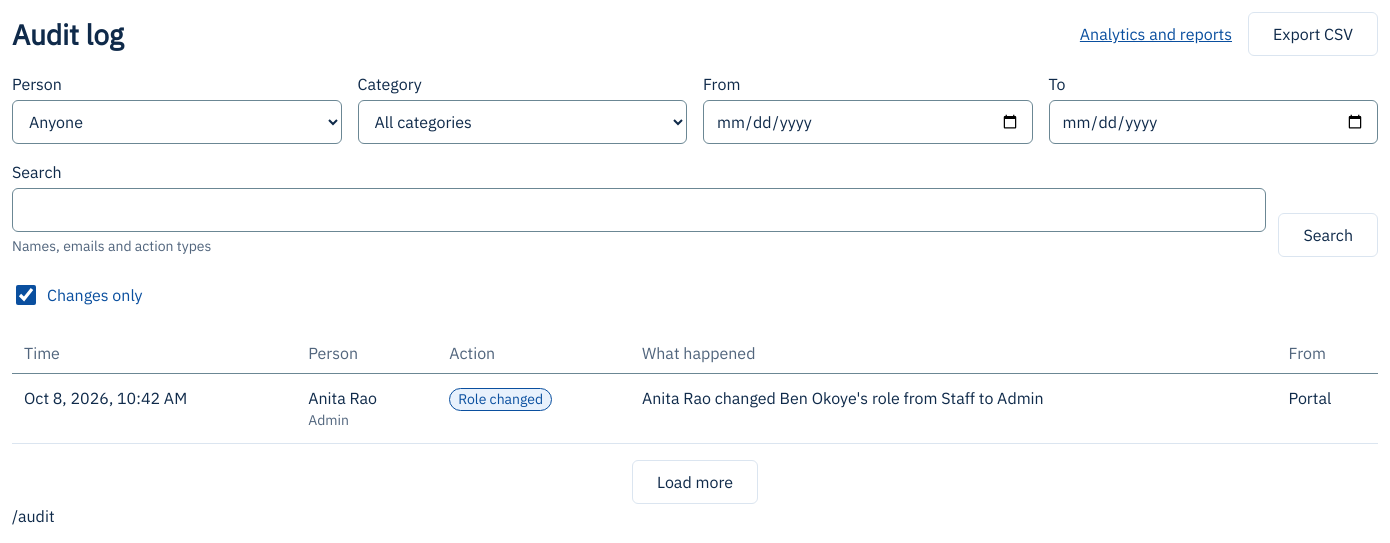
Scenario: AuditPage › list › ignores a Load more that arrives after the filters changed
This screenshot has width=1390, height=543.
Click the button "Load more" at x=695, y=482, box 632,460 -> 758,504
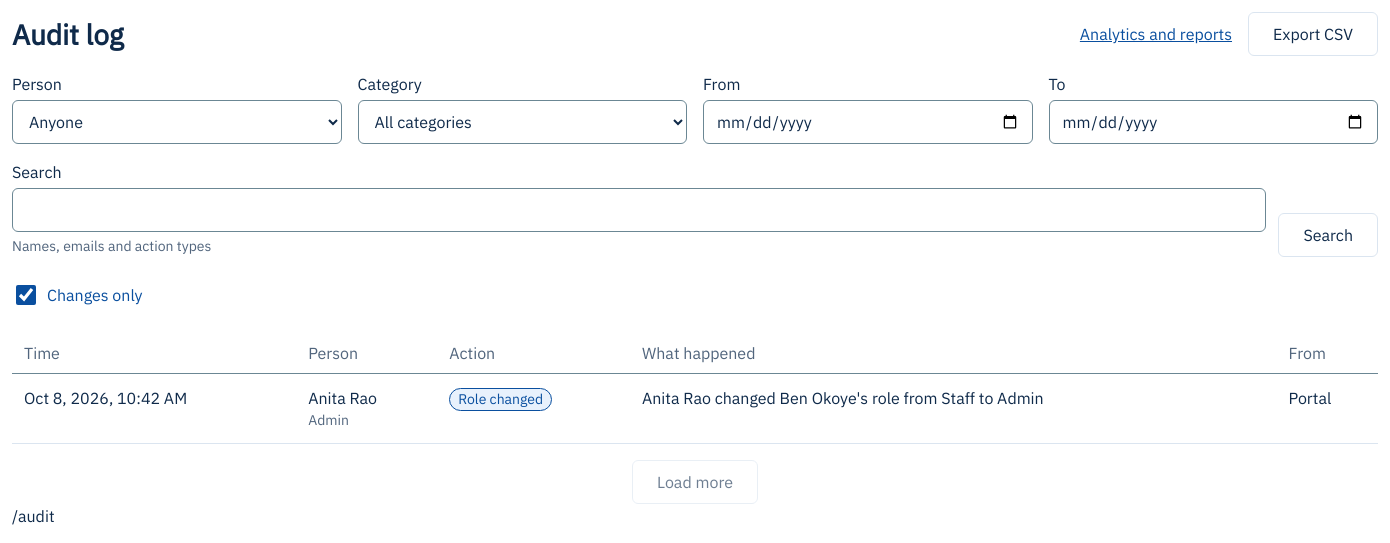
Select "Content" in the dropdown labelled "Category" at x=522, y=122, box 358,100 -> 687,144
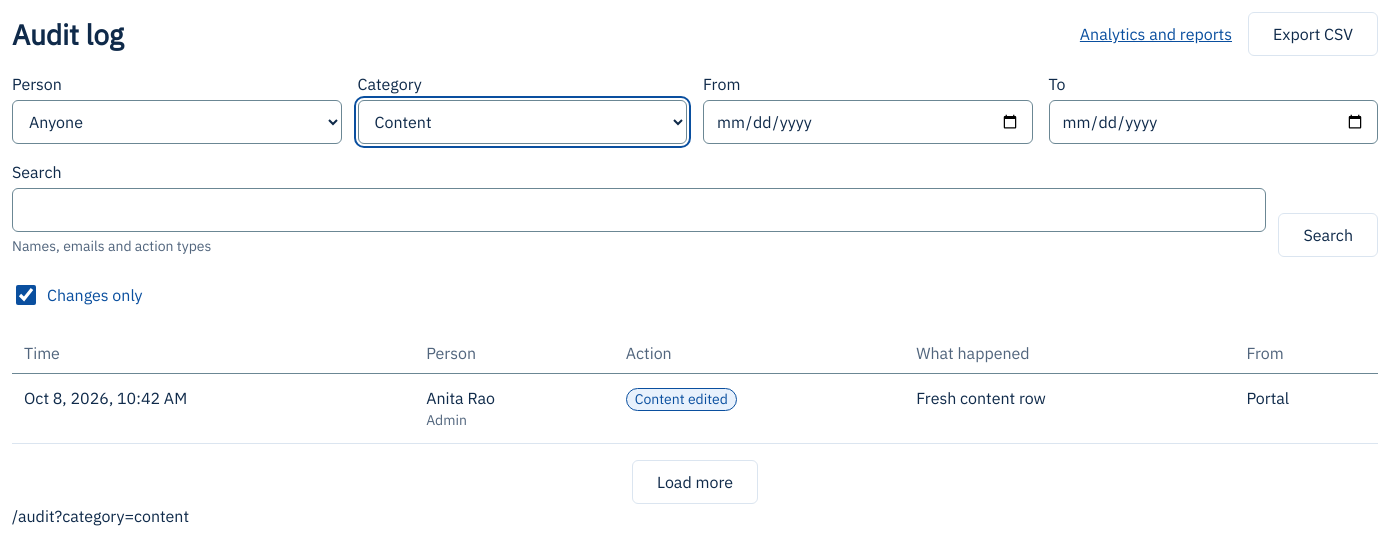
Check: the button "Fresh content row" is shown, box 916,386 -> 1046,410
Check: the button "Anita Rao changed Ben Okoye's role from Staff to Admin" is gone
Check: the button "Load more" is enabled, box 632,460 -> 758,504
